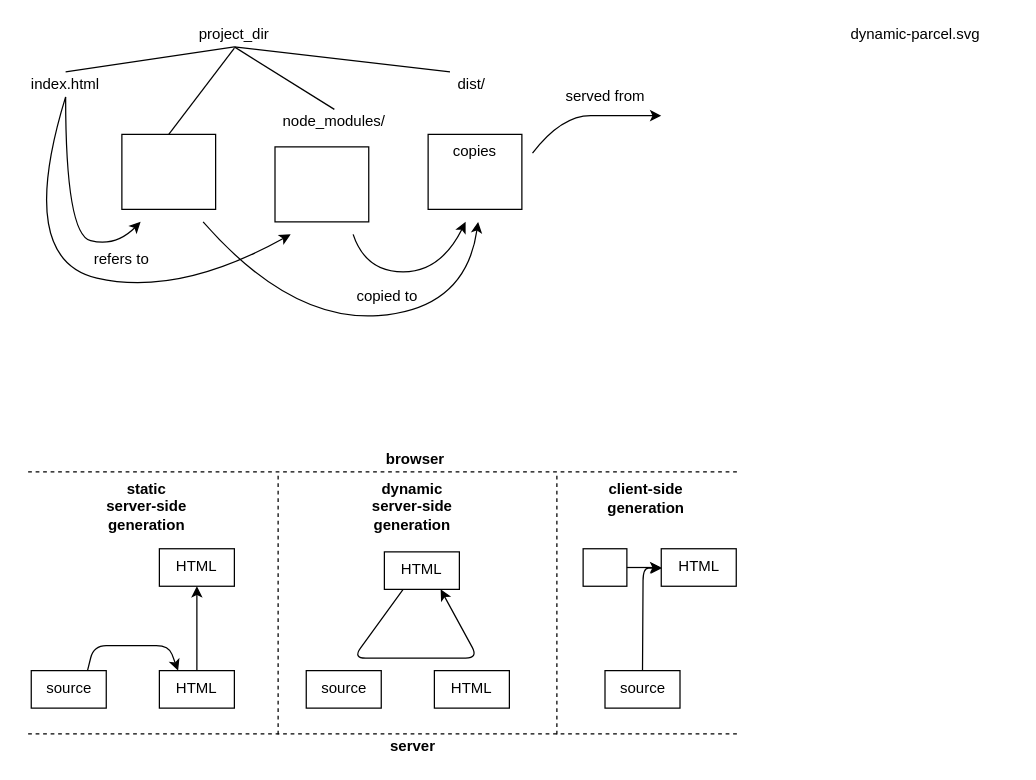
This 1036x780 diagram has some shape labels left out. The box of each missing label's shape, as (x1, y1, x2, y2) in pixels:
application.js ...: (121, 133, 216, 209)
JS: (582, 548, 627, 586)
library.js ...: (274, 146, 369, 222)
